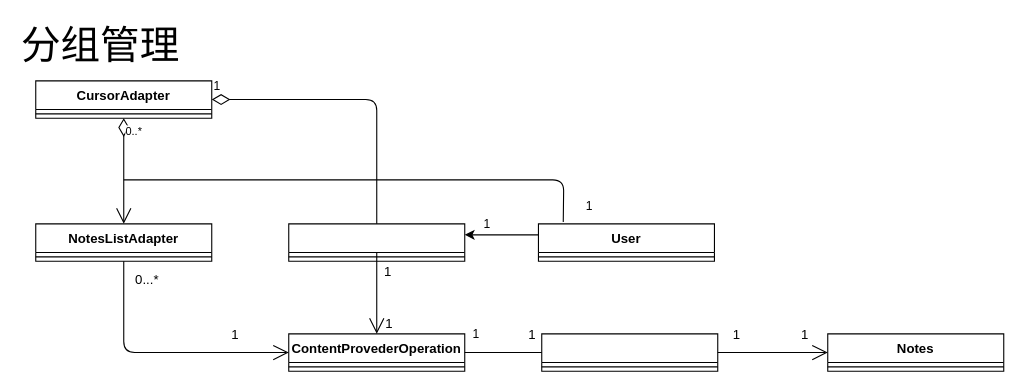
This 1023x391 diagram has some shape labels left out. Each missing label, with the centre of its shape:
"ContentProviderResult" goes at (x=629, y=352).
"FoldersListAdapter" goes at (x=376, y=242).
